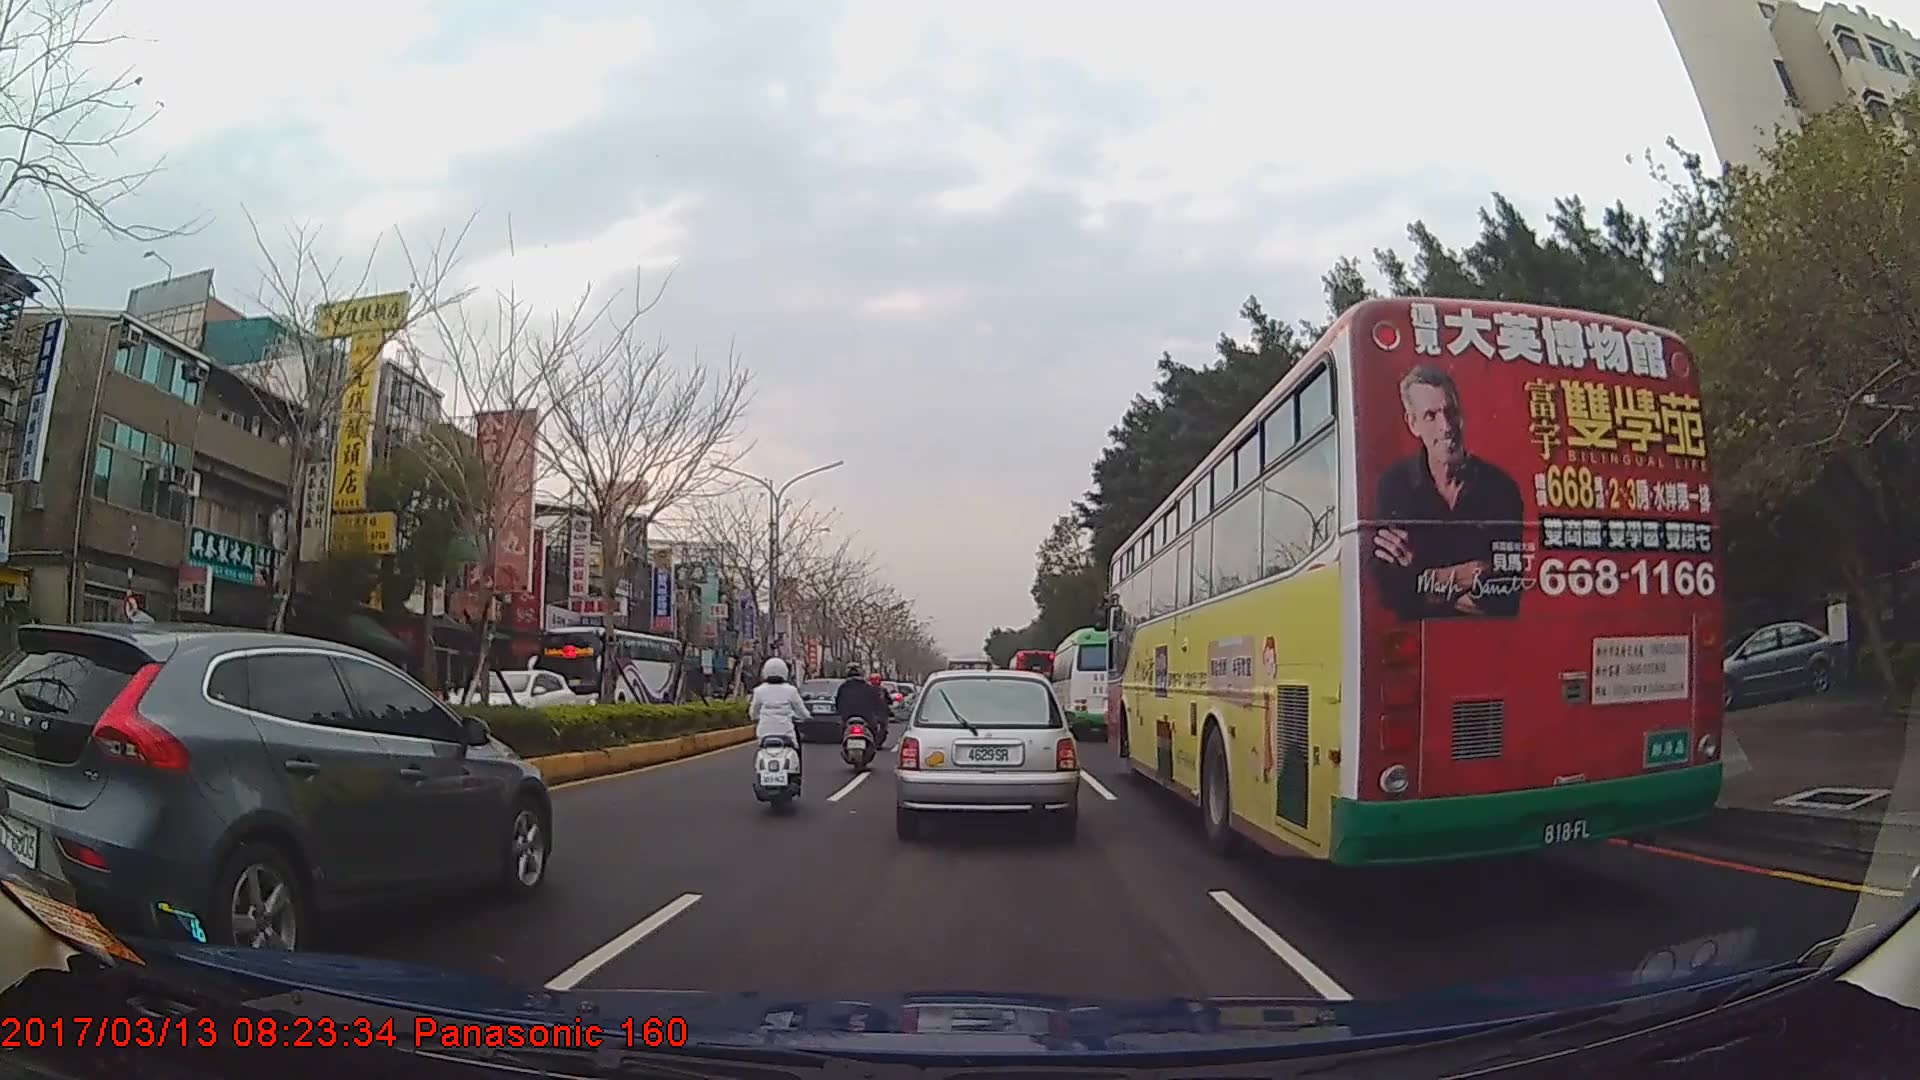rider: (747, 653, 811, 818), (834, 666, 886, 766), (865, 676, 893, 755)
vehicle: (1103, 295, 1724, 875), (0, 626, 553, 959), (898, 668, 1078, 838), (536, 628, 685, 731), (1050, 626, 1139, 740), (449, 668, 574, 738), (788, 680, 865, 745), (1006, 648, 1057, 721)
